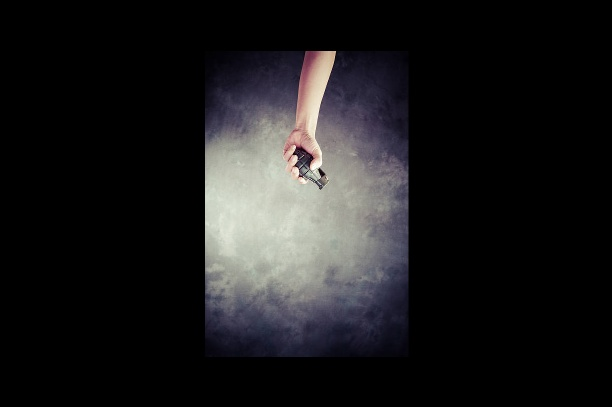e1: (286, 141, 331, 190)
